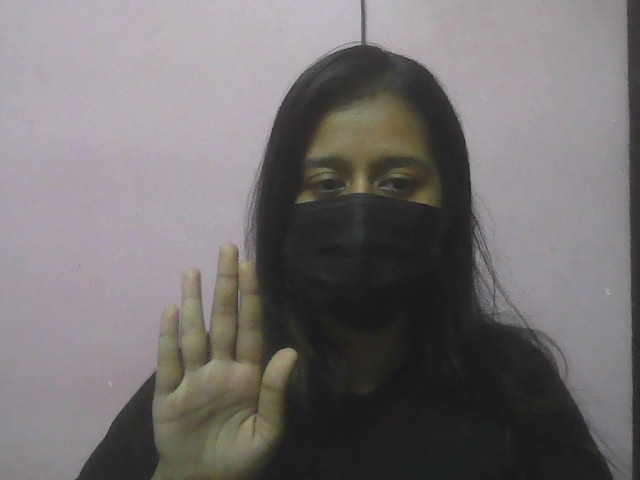Hello: (154, 242, 298, 479)
